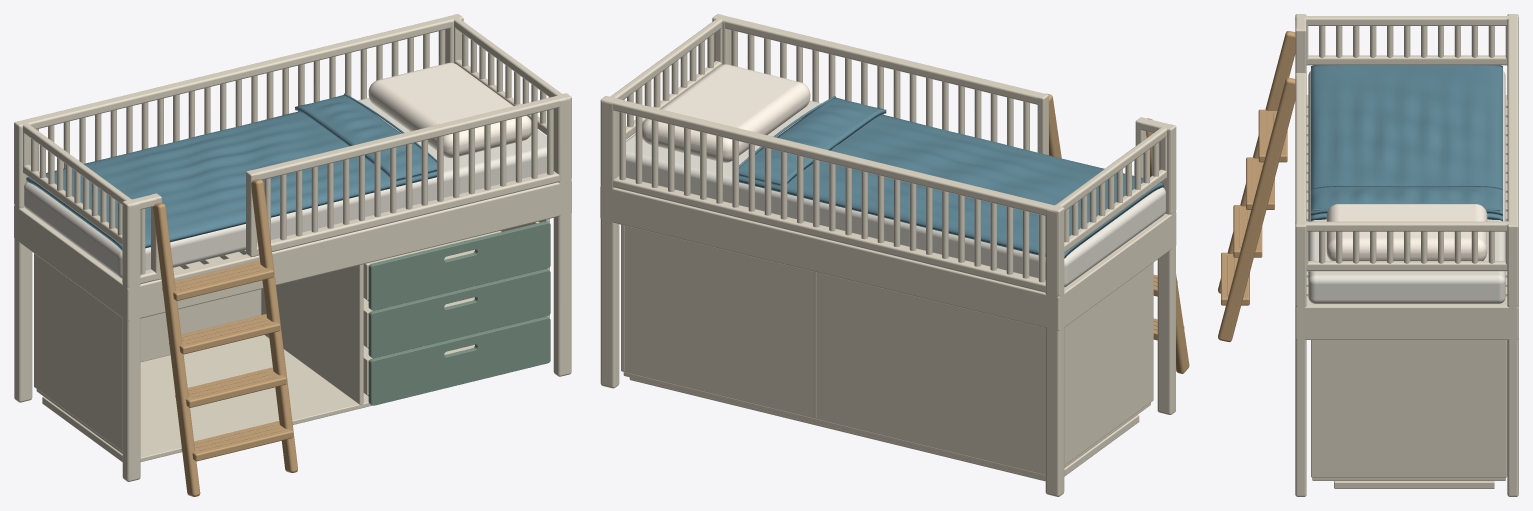
Rendered from junior-cabin-bed-spindles-left-hd.glb.
3 views of the same model, side by side, from view 1: azimuth 30°, elevation 25°; view 2: azimuth 150°, elevation 25°; view 3: azimuth 270°, elevation 25° (orthographic). The views are drawn at different scales.
Parts seen in each view (by area): view 1: hd_frame, hd_drawer_fronts, hd_quilt, hd_ladder, hd_mattress, hd_pillow; view 2: hd_frame, hd_quilt, hd_mattress, hd_pillow, hd_ladder; view 3: hd_frame, hd_quilt, hd_ladder, hd_mattress, hd_pillow.
Boxes of the visible parts, x1,y1,x2,y2 form: hd_frame: [14, 14, 571, 481]; hd_drawer_fronts: [368, 221, 550, 405]; hd_quilt: [26, 93, 436, 250]; hd_ladder: [153, 179, 297, 496]; hd_mattress: [24, 98, 546, 278]; hd_pillow: [368, 62, 531, 158]; hd_frame: [600, 14, 1176, 496]; hd_quilt: [739, 96, 1163, 258]; hd_mattress: [626, 100, 1165, 287]; hd_pillow: [642, 64, 810, 162]; hd_ladder: [1046, 93, 1189, 373]; hd_frame: [1295, 14, 1518, 496]; hd_quilt: [1311, 65, 1502, 221]; hd_ladder: [1218, 31, 1295, 342]; hd_mattress: [1308, 71, 1505, 303]; hd_pillow: [1326, 204, 1487, 260].
Size of the model in its own units: 1.91 by 1.14 by 1.14.
